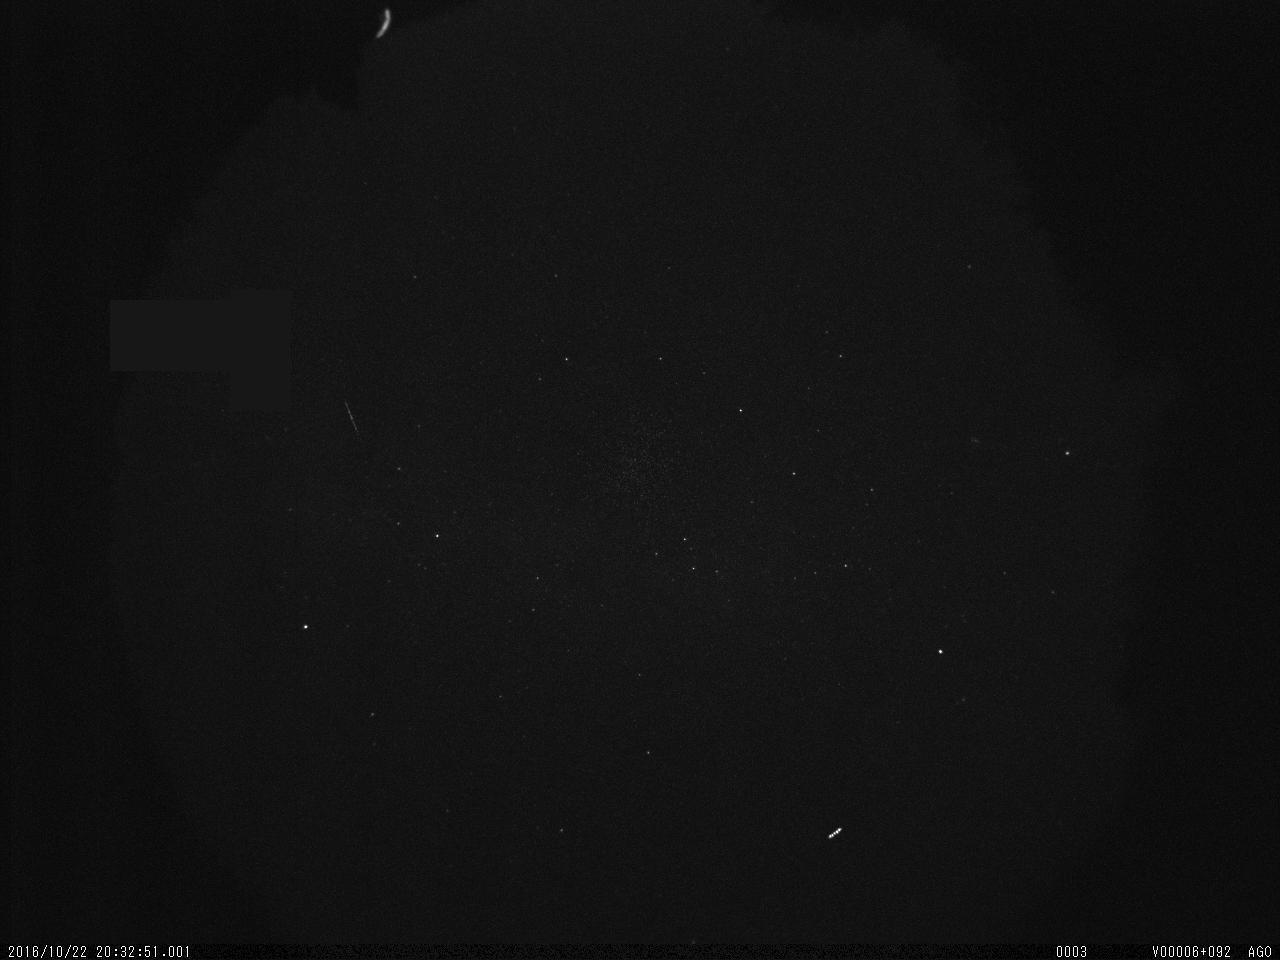satelite: (820, 820, 851, 850)
